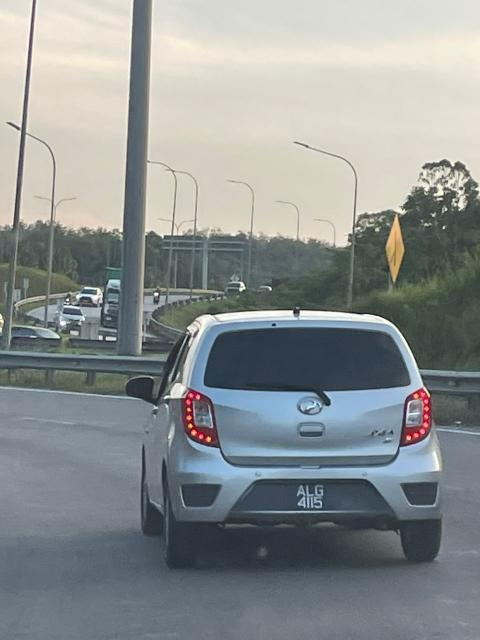License_Plate: (278, 481, 345, 516)
car: (116, 302, 452, 577)
